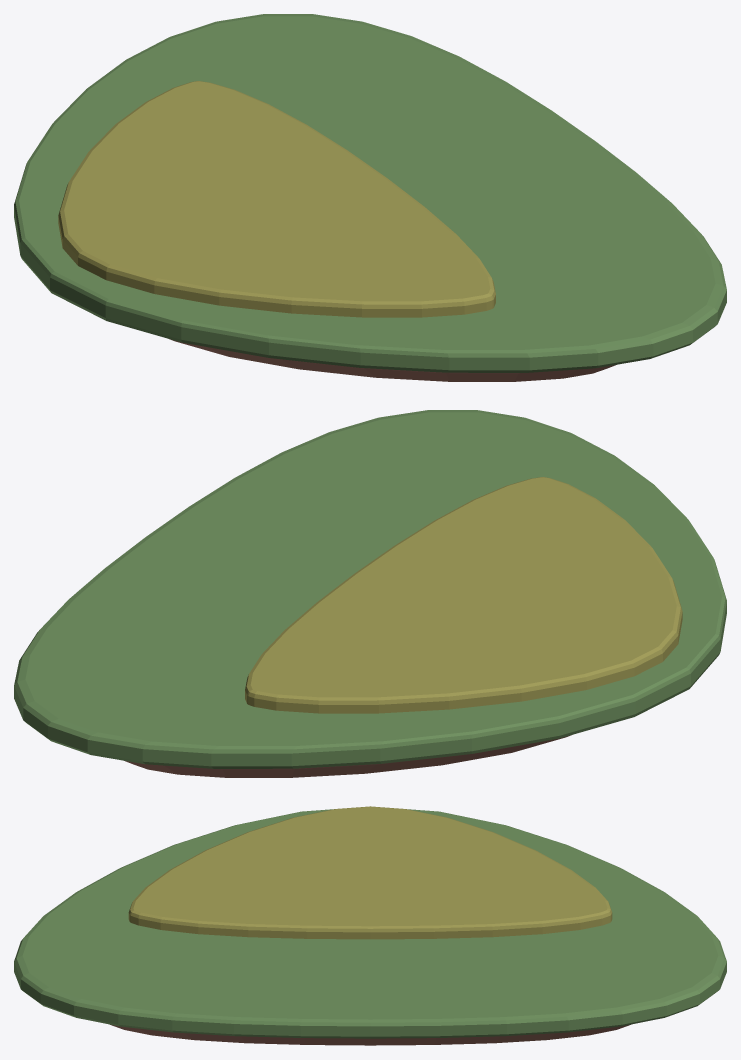
The model's file is EndPlatform.fbx.
3 views of the same model, one above another, from view 1: azimuth 30°, elevation 25°; view 2: azimuth 150°, elevation 25°; view 3: azimuth 270°, elevation 25° (orthographic). The views are drawn at different scales.
Parts seen in each view (by area): view 1: Cylinder.004; view 2: Cylinder.004; view 3: Cylinder.004.
Part boxes in pixels (x1,y1,x2,y2): Cylinder.004: (14, 14, 726, 381); Cylinder.004: (14, 410, 726, 777); Cylinder.004: (14, 806, 726, 1045).
Size of the model in its own units: 2669 by 3694 by 607.
